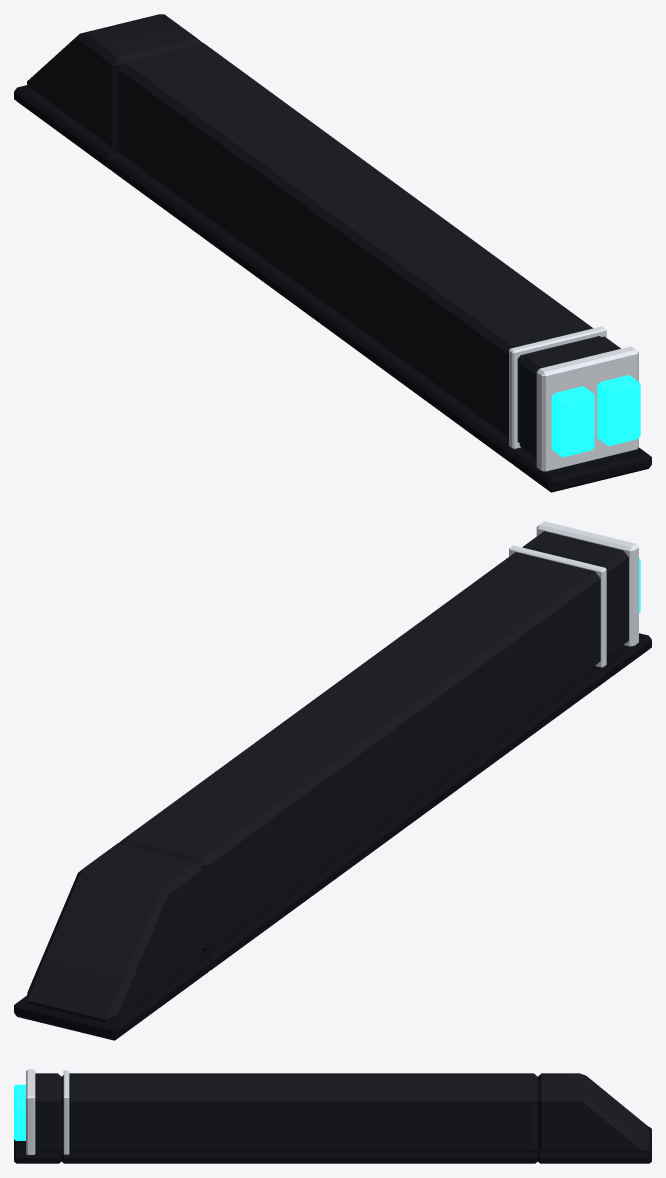
The model's file is rocket_square.glb.
3 views of the same model, one above another, from view 1: azimuth 30°, elevation 25°; view 2: azimuth 150°, elevation 25°; view 3: azimuth 270°, elevation 25° (orthographic). The views are drawn at different scales.
Parts seen in each view (by area): view 1: rocket_square_MID_deco_body, rocket_square_MID_deco_trim, rocket_square_TAIL_deco_body, rocket_square_HEAD_deco_neon, rocket_square_HEAD_chrome, rocket_square_HEAD_deco_body, rocket_square_HEAD_deco_trim, rocket_square_TAIL_deco_trim, rocket_square_MID_chrome; view 2: rocket_square_MID_deco_body, rocket_square_TAIL_deco_body, rocket_square_MID_deco_trim, rocket_square_HEAD_deco_body, rocket_square_TAIL_deco_trim, rocket_square_HEAD_chrome, rocket_square_MID_chrome, rocket_square_HEAD_deco_trim; view 3: rocket_square_MID_deco_body, rocket_square_TAIL_deco_body, rocket_square_MID_deco_trim, rocket_square_HEAD_deco_body, rocket_square_TAIL_deco_trim, rocket_square_HEAD_chrome, rocket_square_HEAD_deco_trim, rocket_square_HEAD_deco_neon, rocket_square_MID_chrome.
Boxes of the visible parts, bbox=[...] form: rocket_square_MID_deco_body: bbox=[118, 43, 600, 442]; rocket_square_MID_deco_trim: bbox=[110, 155, 523, 463]; rocket_square_TAIL_deco_body: bbox=[27, 14, 202, 151]; rocket_square_HEAD_deco_neon: bbox=[551, 375, 640, 457]; rocket_square_HEAD_chrome: bbox=[536, 346, 638, 471]; rocket_square_HEAD_deco_body: bbox=[519, 336, 620, 458]; rocket_square_HEAD_deco_trim: bbox=[511, 447, 651, 492]; rocket_square_TAIL_deco_trim: bbox=[14, 85, 122, 169]; rocket_square_MID_chrome: bbox=[509, 326, 606, 448]; rocket_square_MID_deco_body: bbox=[118, 552, 600, 952]; rocket_square_TAIL_deco_body: bbox=[27, 843, 202, 1022]; rocket_square_MID_deco_trim: bbox=[198, 664, 611, 969]; rocket_square_HEAD_deco_body: bbox=[522, 531, 628, 656]; rocket_square_TAIL_deco_trim: bbox=[14, 956, 210, 1040]; rocket_square_HEAD_chrome: bbox=[536, 521, 638, 646]; rocket_square_MID_chrome: bbox=[509, 545, 606, 667]; rocket_square_HEAD_deco_trim: bbox=[606, 633, 651, 676]; rocket_square_MID_deco_body: bbox=[61, 1073, 537, 1152]; rocket_square_TAIL_deco_body: bbox=[537, 1073, 649, 1152]; rocket_square_MID_deco_trim: bbox=[61, 1149, 537, 1163]; rocket_square_HEAD_deco_body: bbox=[35, 1073, 61, 1152]; rocket_square_TAIL_deco_trim: bbox=[537, 1126, 651, 1163]; rocket_square_HEAD_chrome: bbox=[26, 1069, 35, 1154]; rocket_square_HEAD_deco_trim: bbox=[14, 1139, 61, 1163]; rocket_square_HEAD_deco_neon: bbox=[14, 1084, 25, 1140]; rocket_square_MID_chrome: bbox=[63, 1070, 69, 1154].
Bounding box in the file's own units: 0.15 × 0.155 × 1.34.
